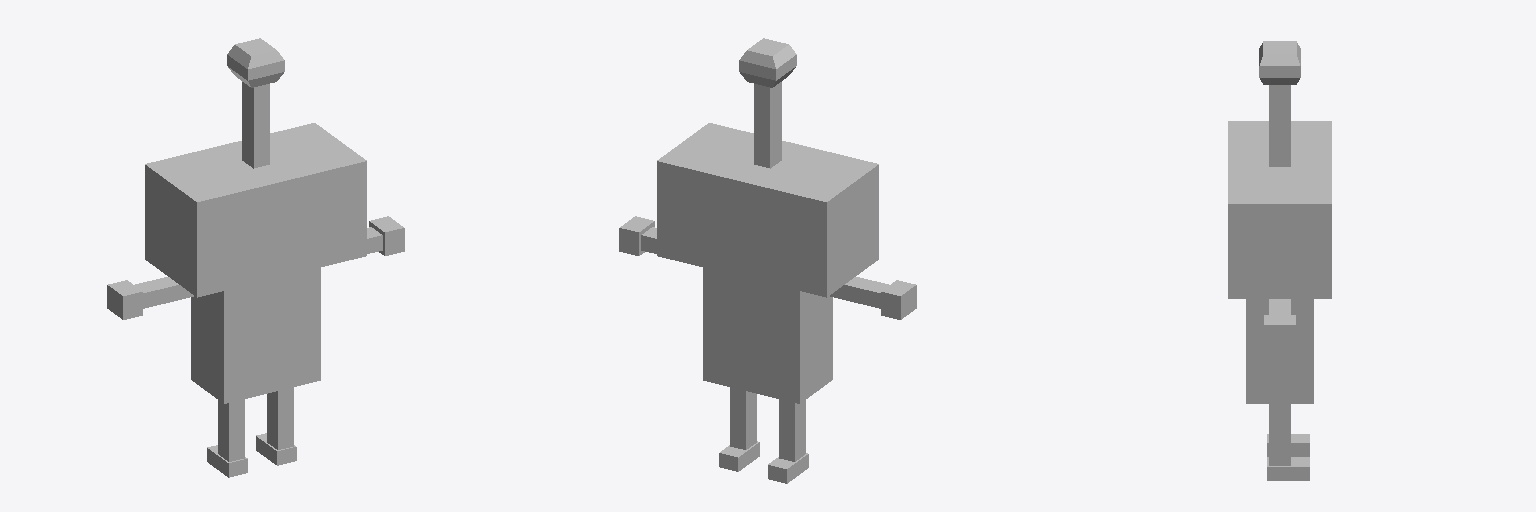
File: mikan_3d.obj
3 views of the same model, side by side, from view 1: azimuth 30°, elevation 25°; view 2: azimuth 150°, elevation 25°; view 3: azimuth 270°, elevation 25° (orthographic).
Visible parts, largest first — view 1: Plane; view 2: Plane; view 3: Plane.
Boxes of the visible parts, x1,y1,x2,y2 form: Plane: [107, 38, 404, 477]; Plane: [619, 38, 916, 483]; Plane: [1228, 41, 1331, 480].
Size of the model in its own units: 3.47 by 4.92 by 1.12.